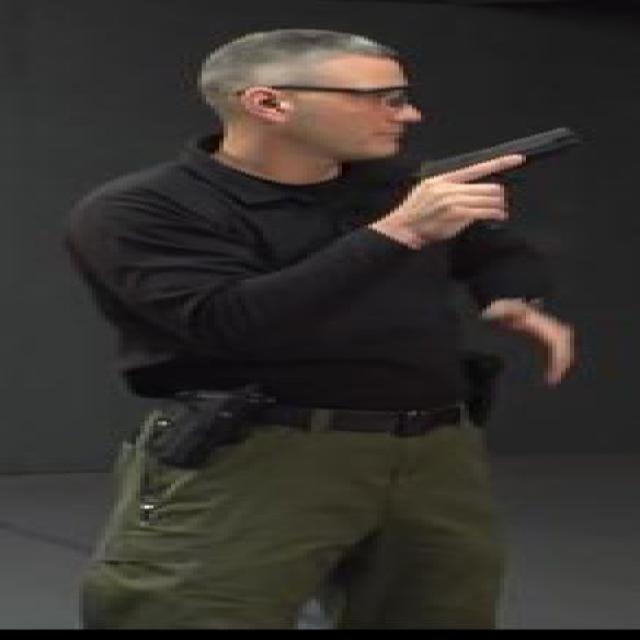weapon: (414, 124, 587, 228)
